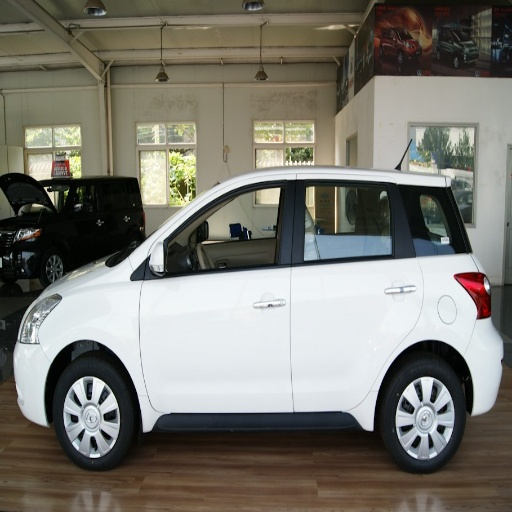back_left_door: (290, 177, 422, 416)
front_left_door: (141, 177, 295, 412)
